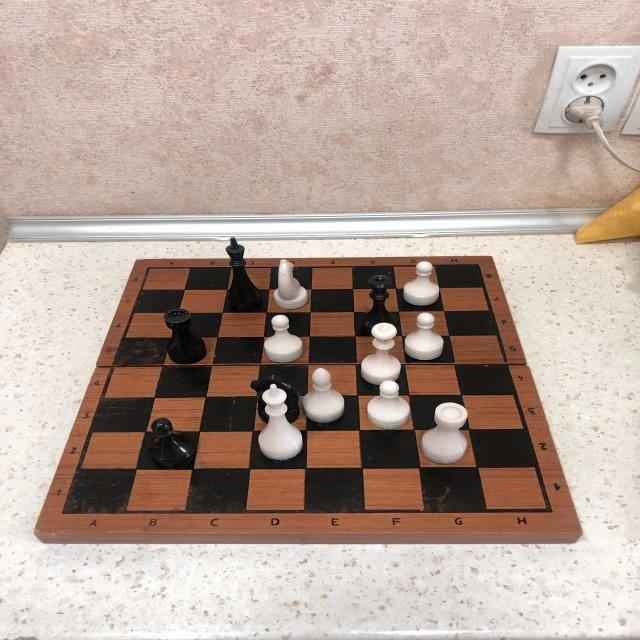chess-table-corners: (530, 497, 563, 520), (52, 503, 84, 522), (464, 258, 488, 274), (139, 260, 160, 274)
